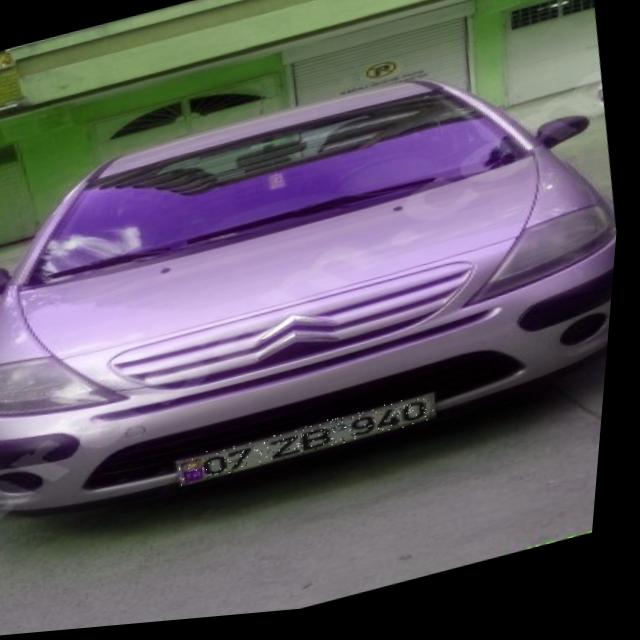license_plate: (183, 400, 446, 490)
